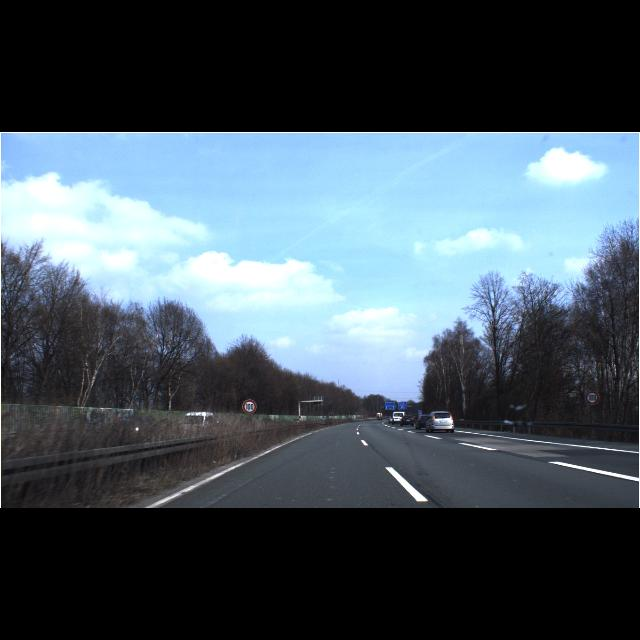prohibitory: (584, 390, 600, 406), (242, 400, 256, 414)
